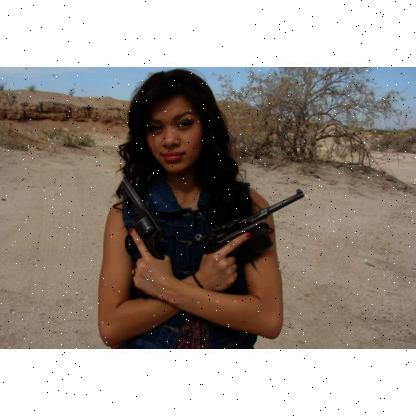gun: (197, 187, 305, 289), (117, 177, 167, 301)
